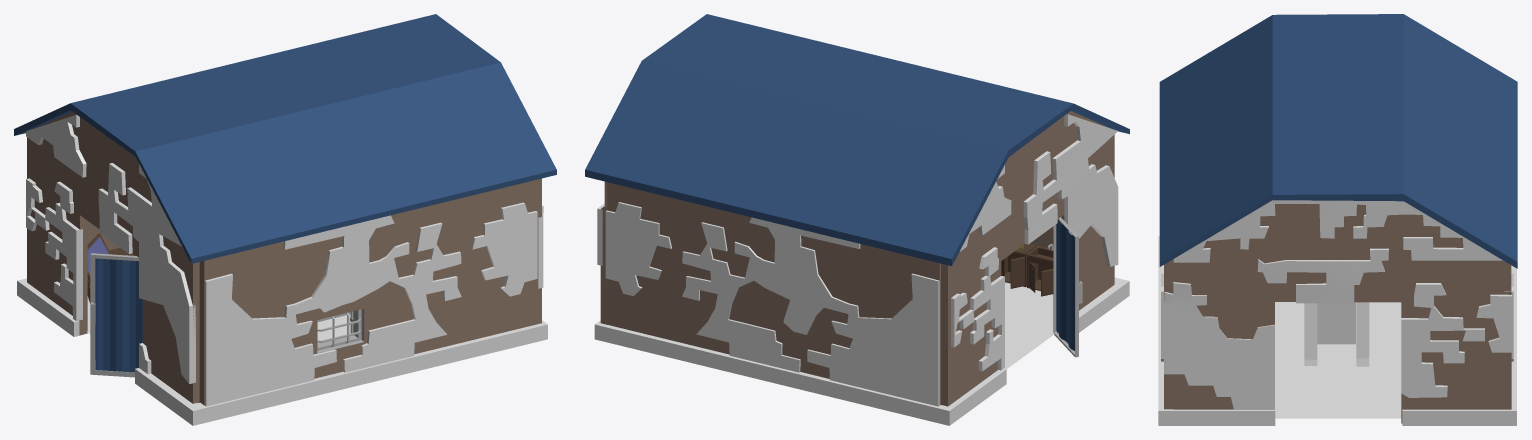
Rendered from garage.fbx.
3 views of the same model, side by side, from view 1: azimuth 30°, elevation 25°; view 2: azimuth 150°, elevation 25°; view 3: azimuth 270°, elevation 25° (orthographic).
Parts seen in each view (by area): view 1: krisha, polySurface397, polySurface2690, polySurface2672, polySurface1981, polySurface1932, GARAGE1_high1_vneshnyaya_storona_h_dveri_h_polySurface2608, polySurface1931, polySurface480, polySurface2488; view 2: krisha, polySurface2675, pCube414, polySurface2672, polySurface1981, polySurface1931, GARAGE1_high1_vneshnyaya_storona_h_dveri_h_polySurface2608, polySurface480, polySurface1932, polySurface1934, polySurface337; view 3: krisha, polySurface1934, polySurface2689, polySurface480, polySurface1931, polySurface1932, polySurface157, polySurface207, polySurface397.
Part boxes in pixels (box(x1,y1,x2,y2)): krisha: box(14, 14, 556, 263); polySurface397: box(199, 178, 541, 405); polySurface2690: box(204, 202, 537, 406); polySurface2672: box(26, 114, 195, 383); polySurface1981: box(27, 111, 199, 403); polySurface1932: box(135, 320, 547, 425); GARAGE1_high1_vneshnyaya_storona_h_dveri_h_polySurface2608: box(90, 253, 142, 377); polySurface1931: box(17, 278, 82, 336); polySurface480: box(87, 296, 350, 343); polySurface2488: box(87, 233, 110, 303); krisha: box(585, 14, 1129, 265); polySurface2675: box(605, 202, 939, 406); pCube414: box(607, 182, 940, 405); polySurface2672: box(951, 114, 1118, 371); polySurface1981: box(941, 111, 1114, 406); polySurface1931: box(594, 320, 1006, 425); GARAGE1_high1_vneshnyaya_storona_h_dveri_h_polySurface2608: box(1053, 217, 1082, 357); polySurface480: box(1004, 282, 1054, 369); polySurface1932: box(1079, 277, 1129, 332); polySurface1934: box(600, 181, 608, 324); polySurface337: box(1026, 246, 1053, 290); krisha: box(1159, 14, 1517, 268); polySurface1934: box(1173, 204, 1511, 423); polySurface2689: box(1164, 200, 1511, 409); polySurface480: box(1275, 302, 1401, 418); polySurface1931: box(1402, 267, 1516, 425); polySurface1932: box(1158, 236, 1275, 425); polySurface157: box(1356, 302, 1369, 366); polySurface207: box(1304, 303, 1317, 365); polySurface397: box(1164, 259, 1173, 409).
Size of the model in its own units: 858 by 572 by 674.
